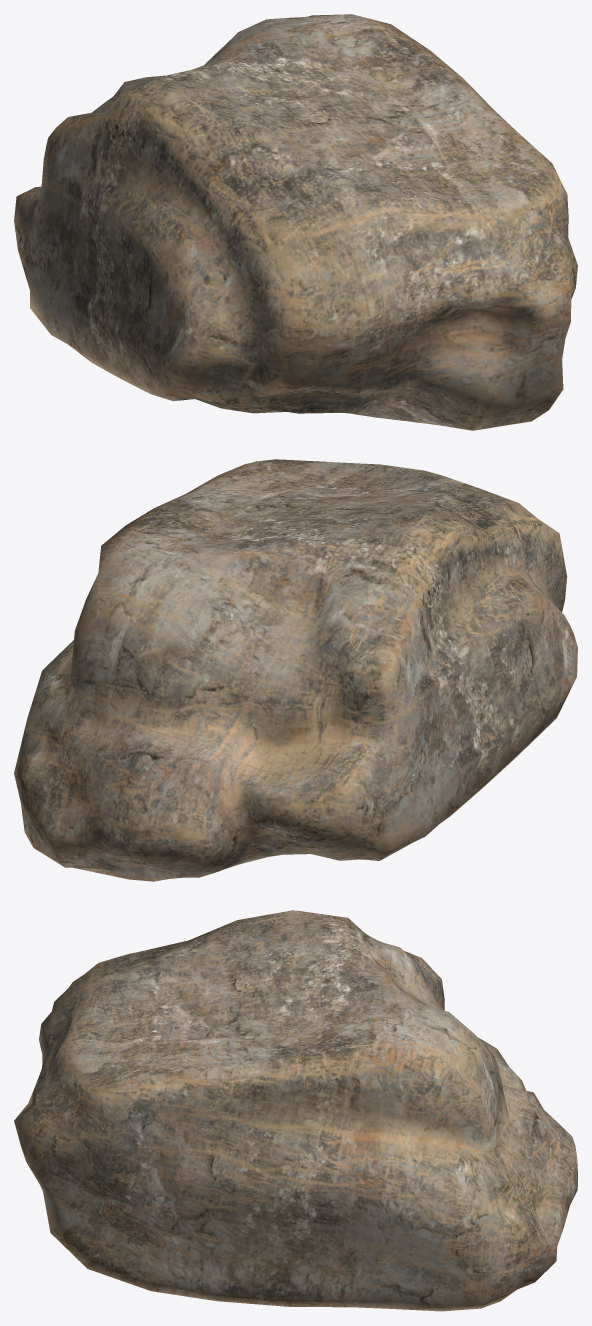
File: videoRock.glb
3 renders of one model, top to bottom at view 1: azimuth 30°, elevation 25°; view 2: azimuth 150°, elevation 25°; view 3: azimuth 270°, elevation 25°, orthographic. The views are drawn at different scales.
Visible parts, largest first — view 1: Rock_1; view 2: Rock_1; view 3: Rock_1.
Boxes of the visible parts, bbox=[...] form: Rock_1: bbox=[14, 14, 577, 430]; Rock_1: bbox=[14, 459, 577, 881]; Rock_1: bbox=[14, 910, 577, 1311].
Bounding box in the file's own units: 4.08 × 3.1 × 5.7.
Materials: 1 (1 with a texture image).
